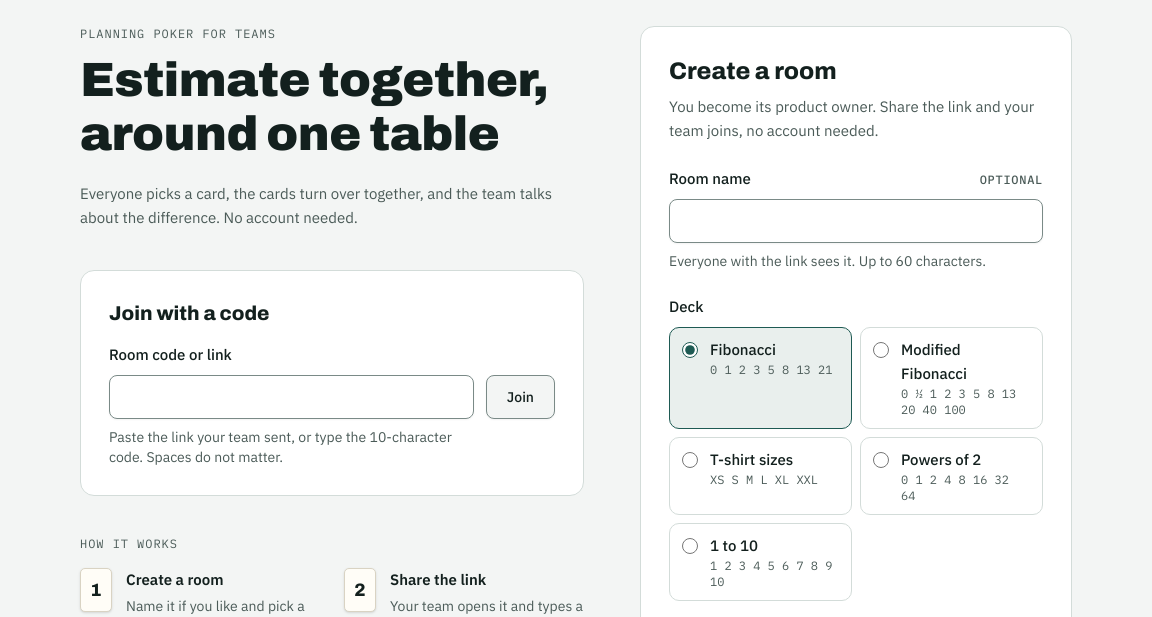
app shell › creates a room and opens it, its name inside bdi
In the field labelled "Room name Optional": coordinates (856, 221) [669,199,1043,243], type "Sprint 42"
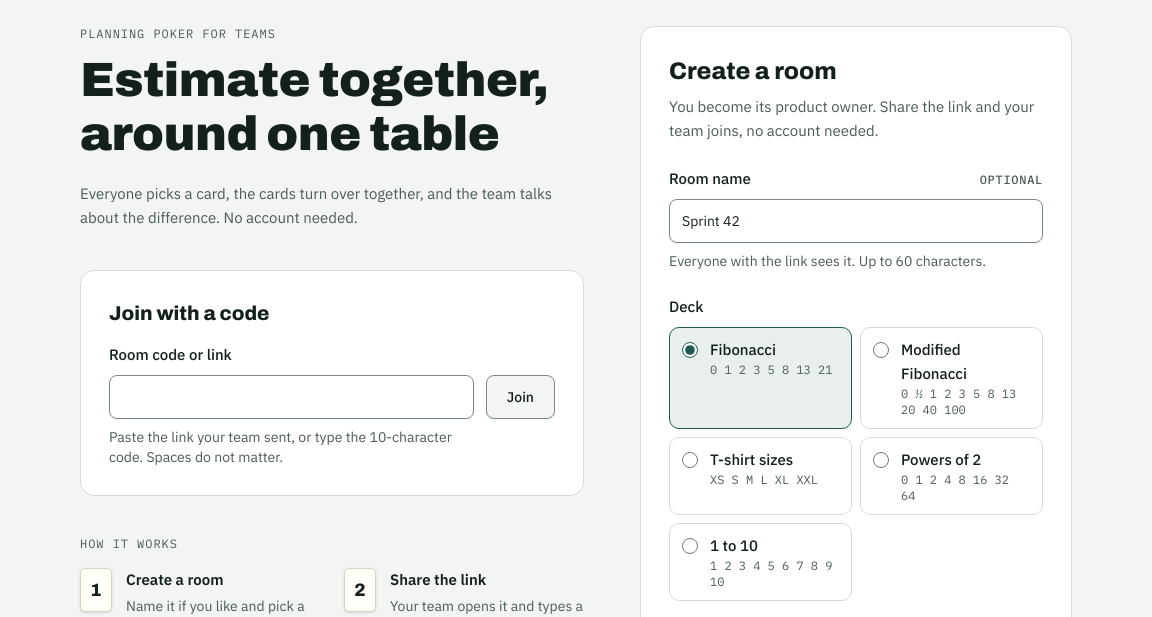
Click the radio button labelled "T-shirt sizes XS S M L XL XXL": coordinates (690, 460) [682,452,698,468]
(page scrolled)
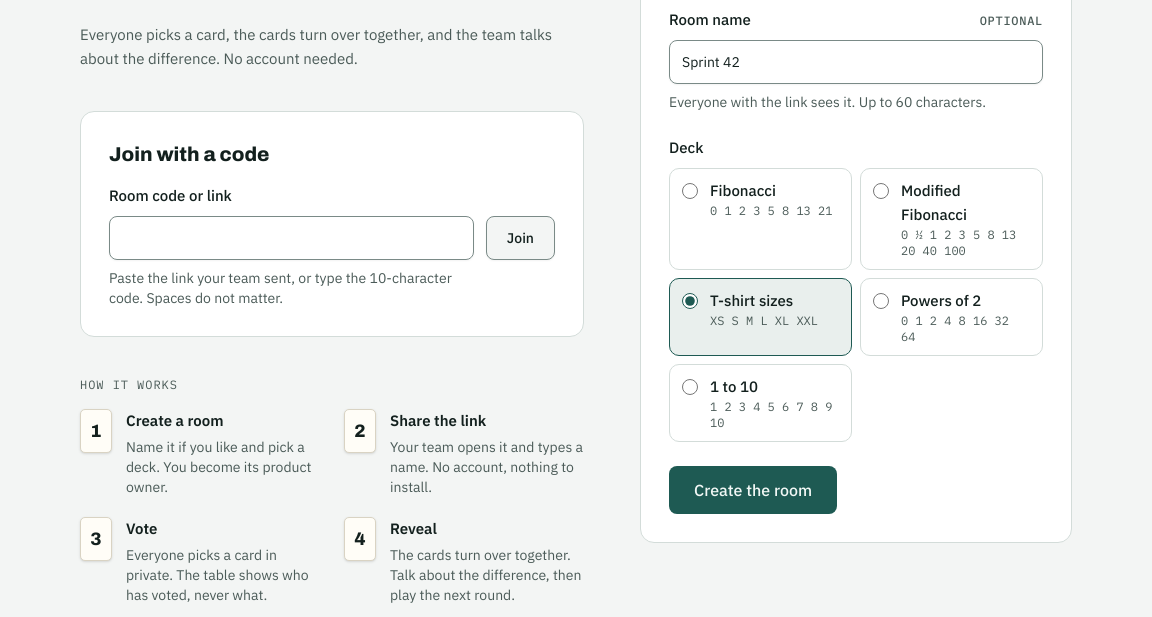
Click the button "Create the room": coordinates (753, 490) [669,466,837,514]
(page scrolled)
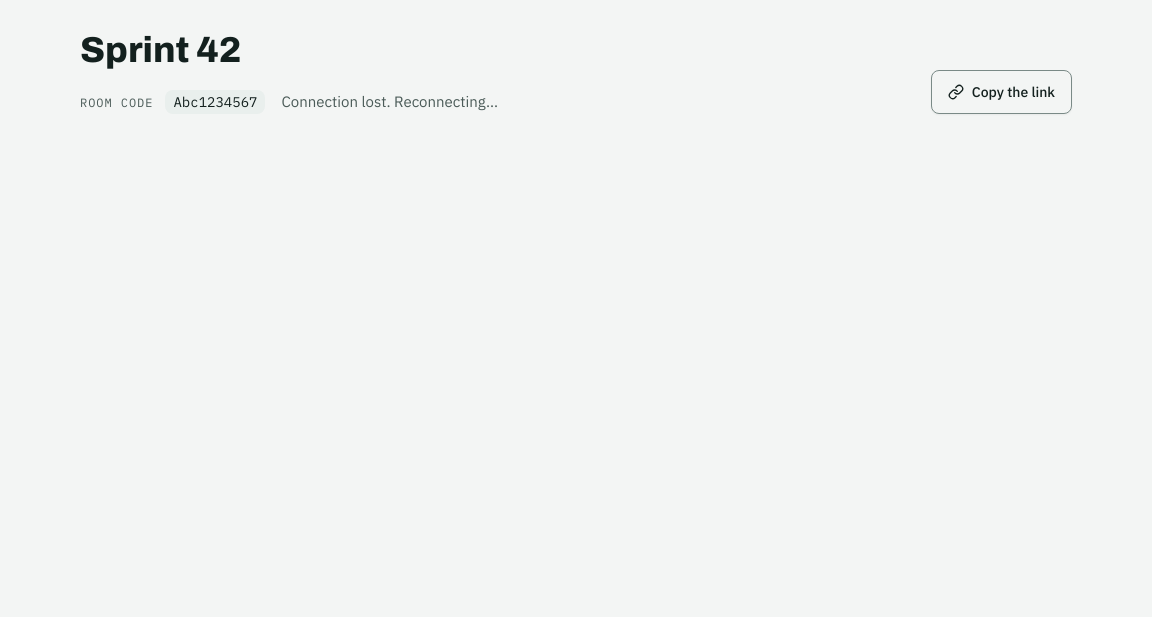
Result: the text "Sprint 42" is shown at [80,30,241,70]
Result: the text "Abc1234567" is shown at [166,90,266,114]
